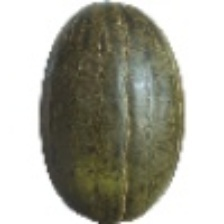honeydew: (46, 0, 202, 189)
